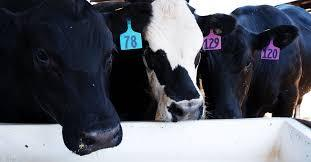cow: (0, 0, 123, 157), (113, 0, 237, 123), (198, 0, 311, 119)
